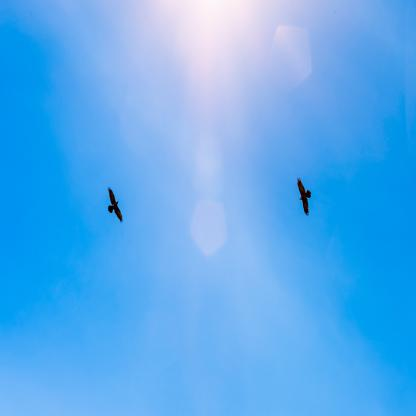bird: (296, 177, 312, 216), (108, 186, 124, 224)
